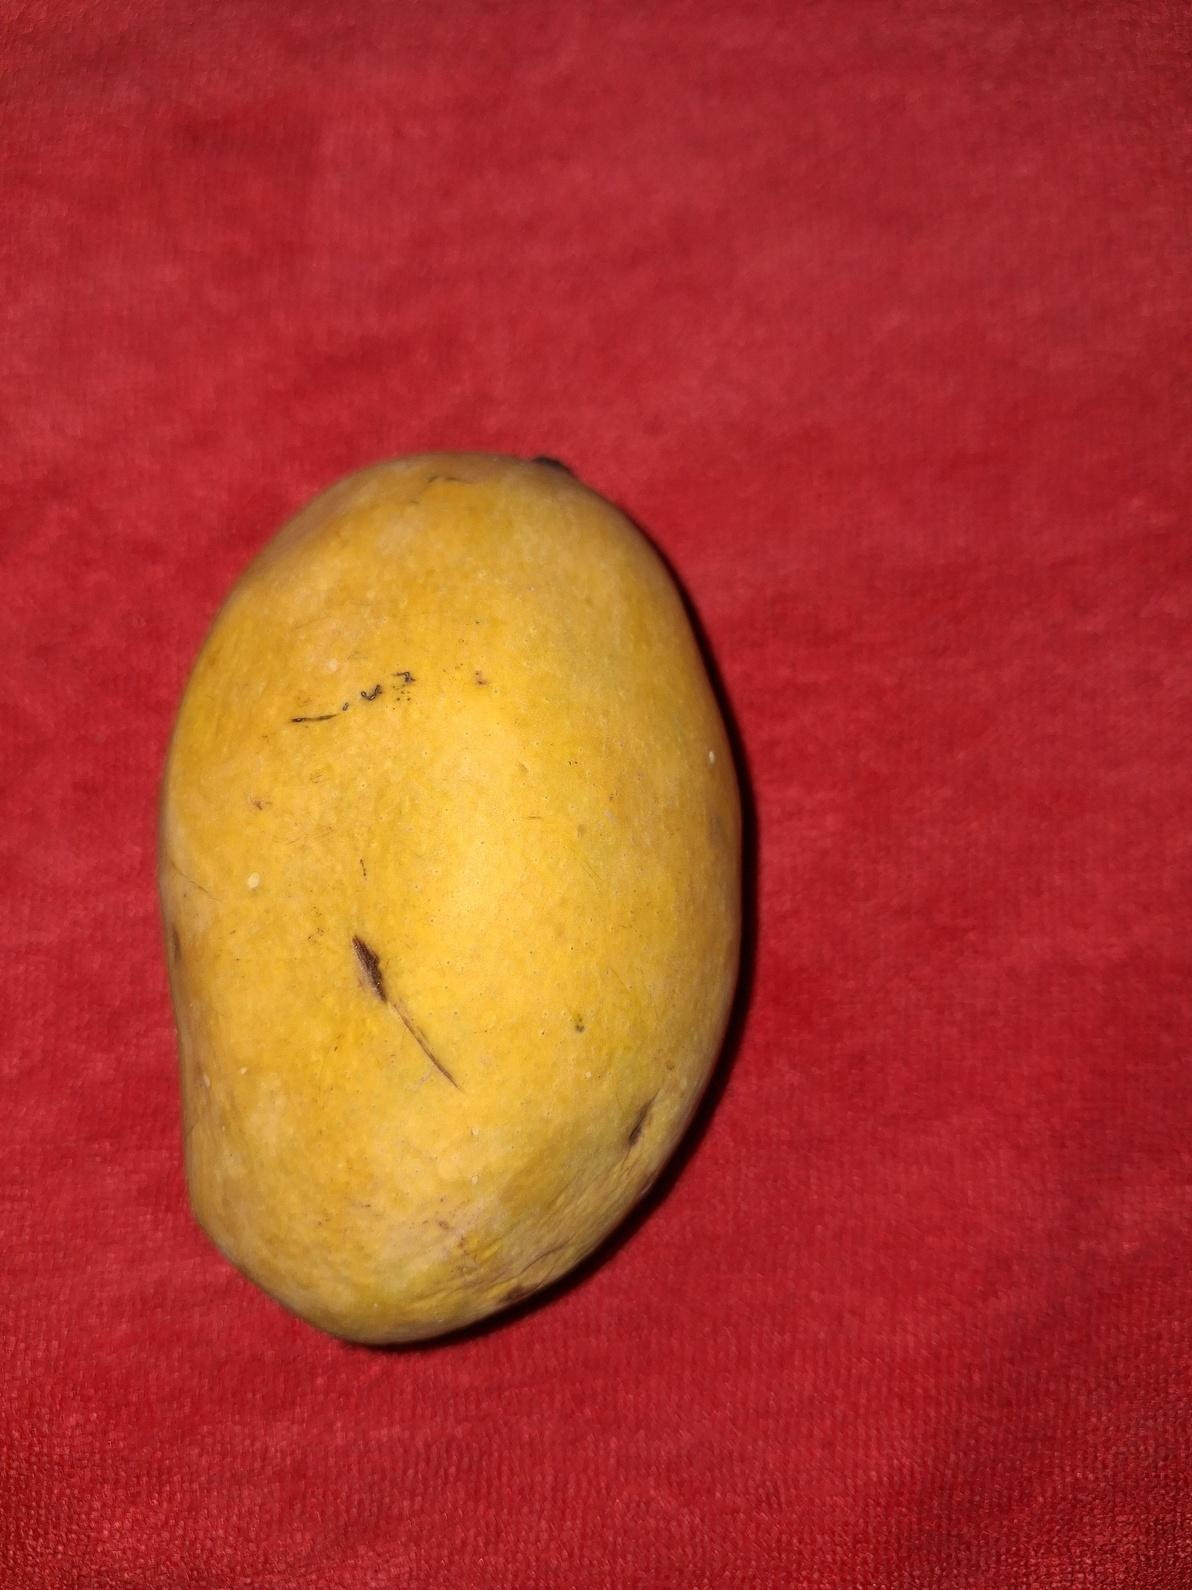mango: (157, 447, 744, 1346)
